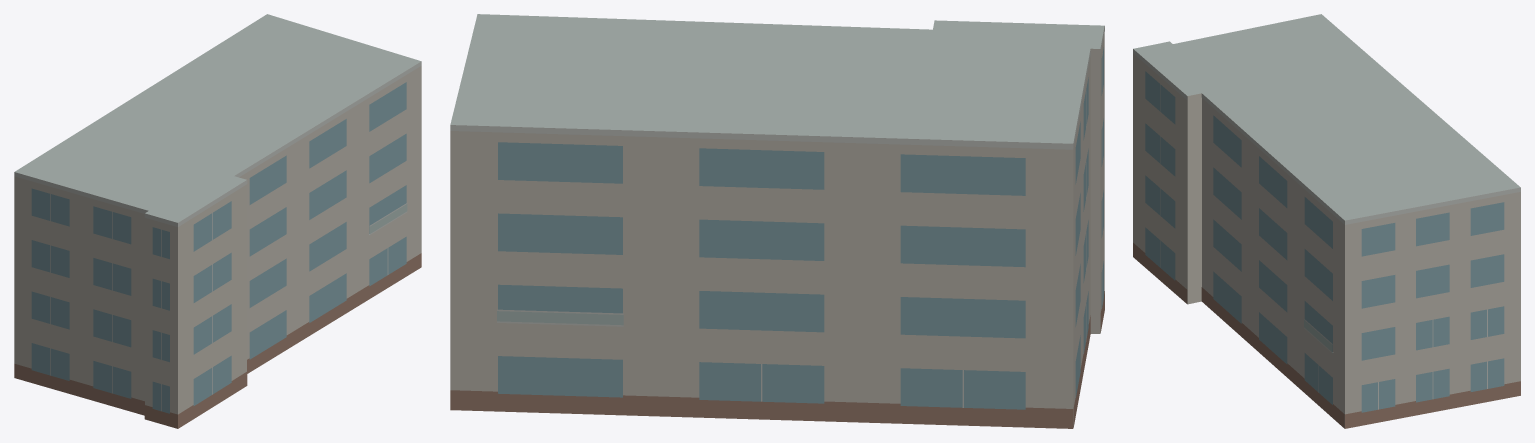
File: survey-upis-32705721.glb
The picture shows the model from 3 angles, left to right: view 1: azimuth 30°, elevation 25°; view 2: azimuth 150°, elevation 25°; view 3: azimuth 270°, elevation 25°; orthographic projection. The views are drawn at different scales.
Parts seen in each view (by area): view 1: survey-upis-32705721.tmp; view 2: survey-upis-32705721.tmp; view 3: survey-upis-32705721.tmp.
Part boxes in pixels (<box>): survey-upis-32705721.tmp: <box>14,14,421,428</box>; survey-upis-32705721.tmp: <box>450,14,1104,428</box>; survey-upis-32705721.tmp: <box>1133,14,1520,428</box>.
Size of the model in its own units: 24.91 by 11.7 by 19.75.
